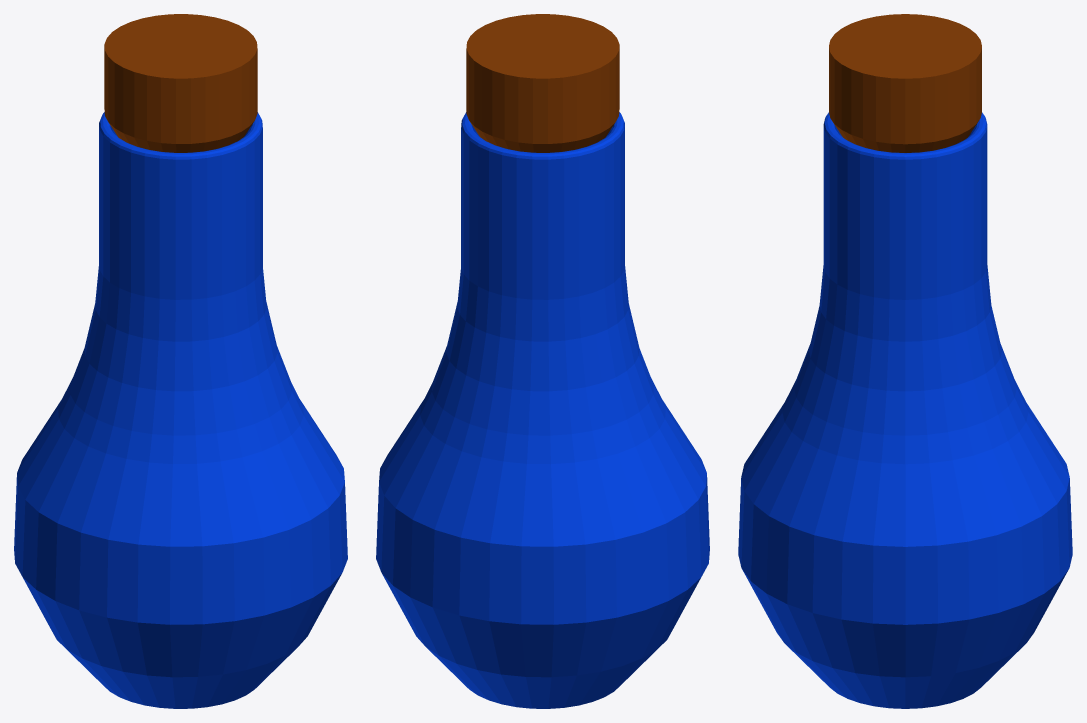
Rendered from potion_002.fbx.
3 views of the same model, side by side, from view 1: azimuth 30°, elevation 25°; view 2: azimuth 150°, elevation 25°; view 3: azimuth 270°, elevation 25° (orthographic).
Parts seen in each view (by area): view 1: potions.002; view 2: potions.002; view 3: potions.002.
Part boxes in pixels (left/top/right/bottom): potions.002: left=14, top=14, right=347, bottom=708; potions.002: left=376, top=14, right=709, bottom=708; potions.002: left=738, top=14, right=1072, bottom=708.
Size of the model in its own units: 11.24 by 23.28 by 11.24.
